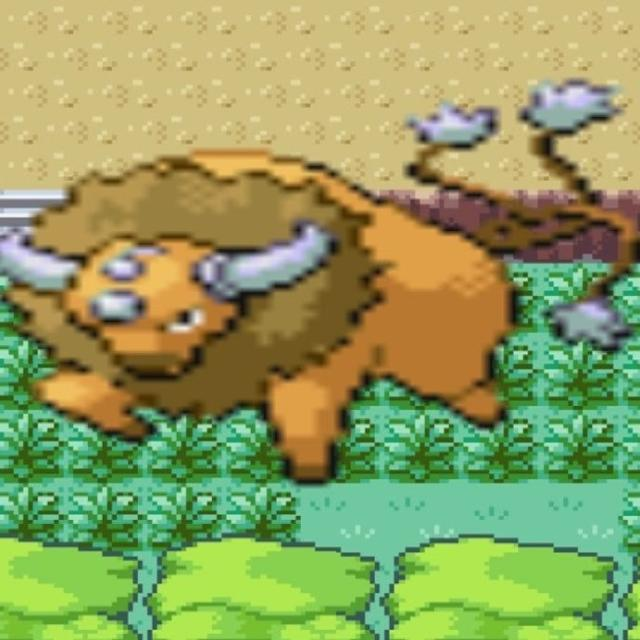Tauros: (16, 152, 518, 484)
